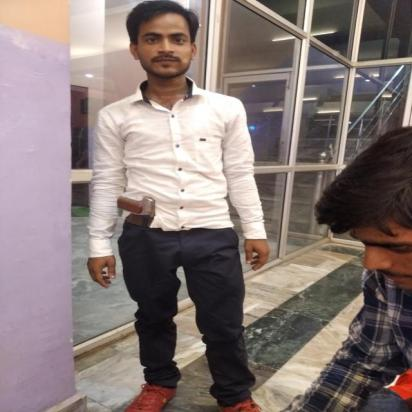Gun: (116, 195, 158, 241)
